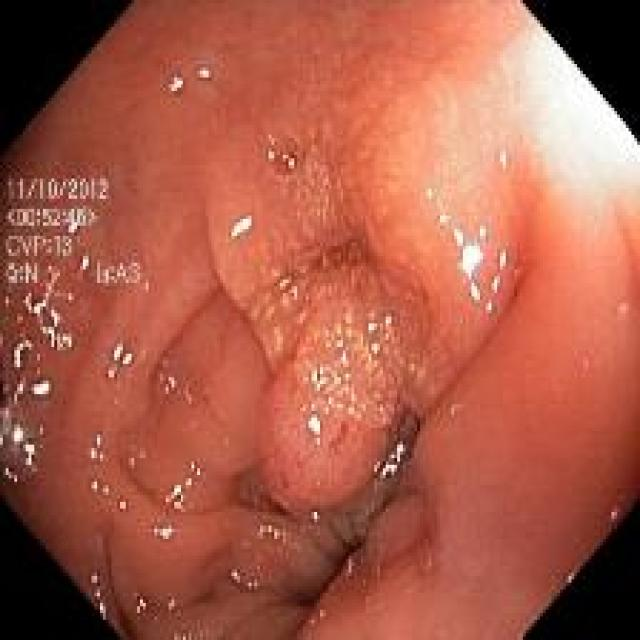Polyps: (261, 262, 404, 512)
